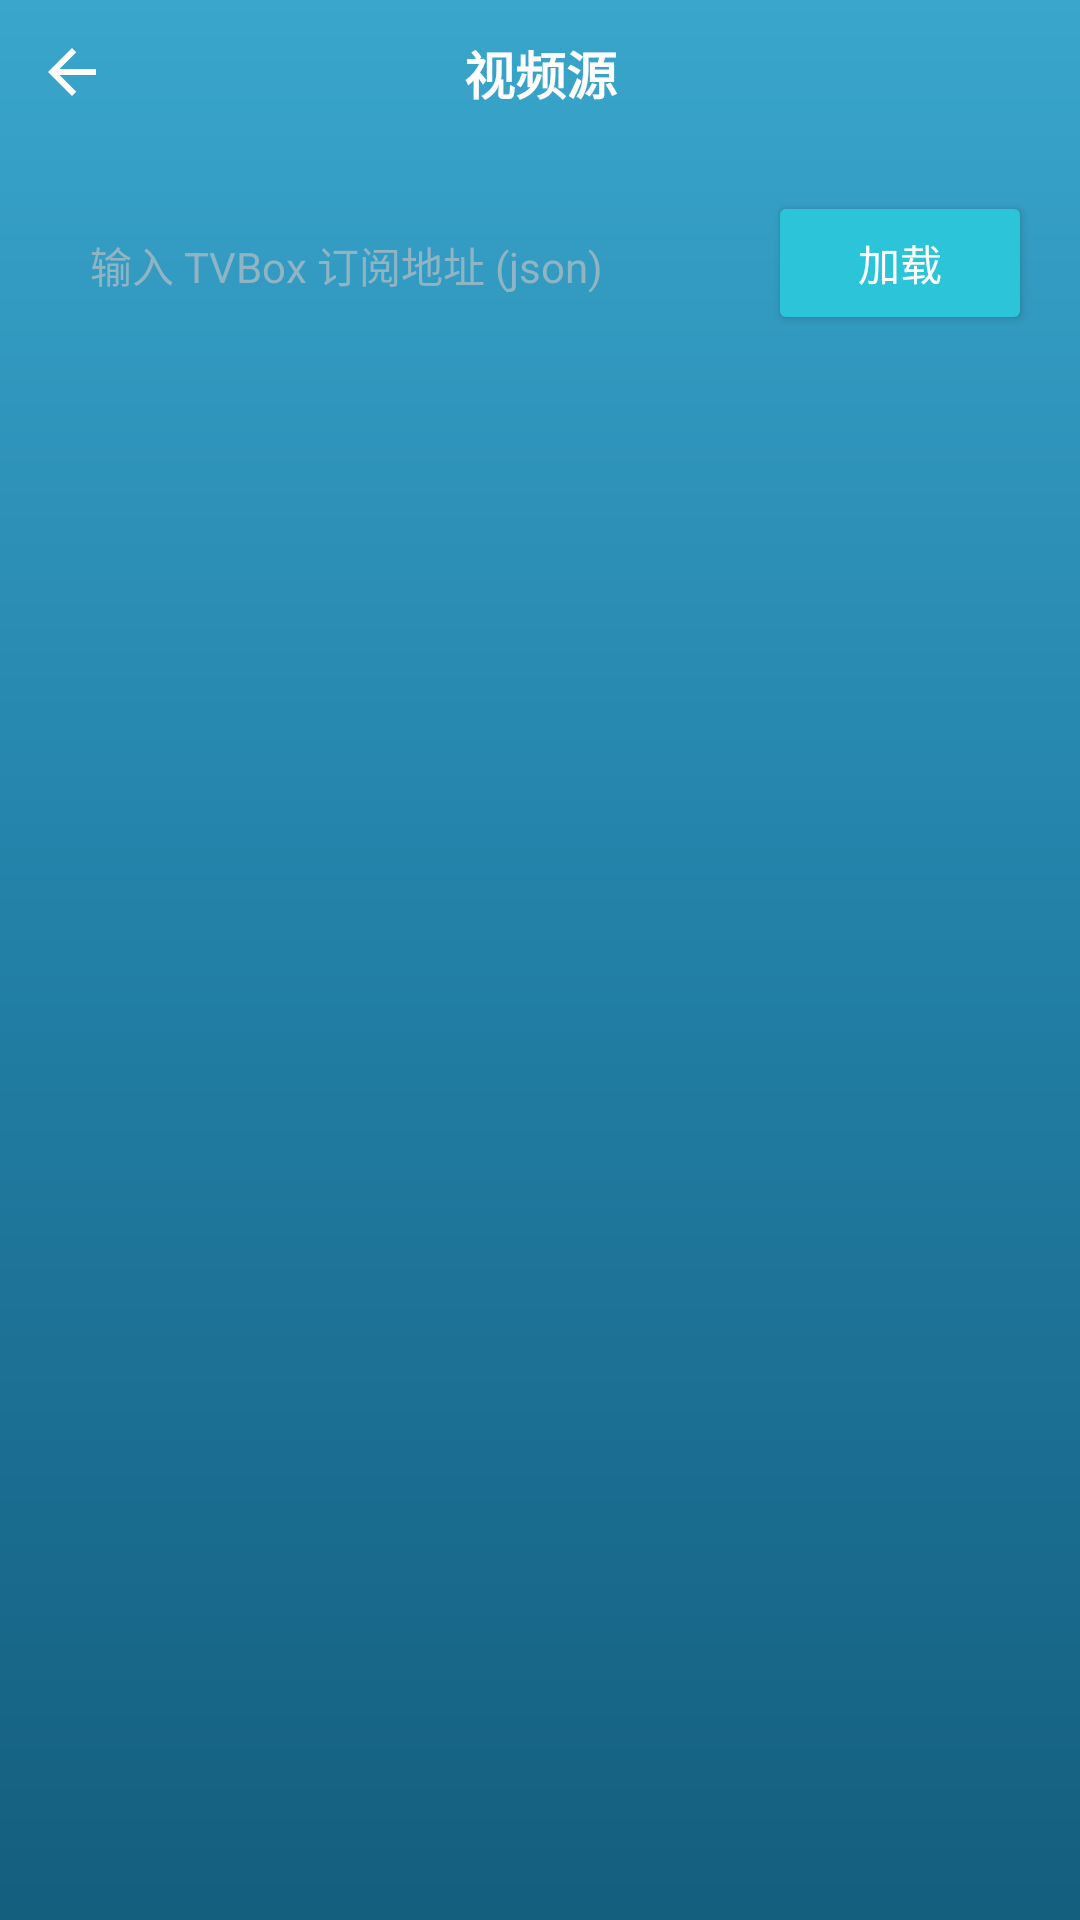

Screen size 1080 × 1920. Icon name, then its box in pixels as (x1, y1, x2, y2):
back: (48, 48, 96, 96)
